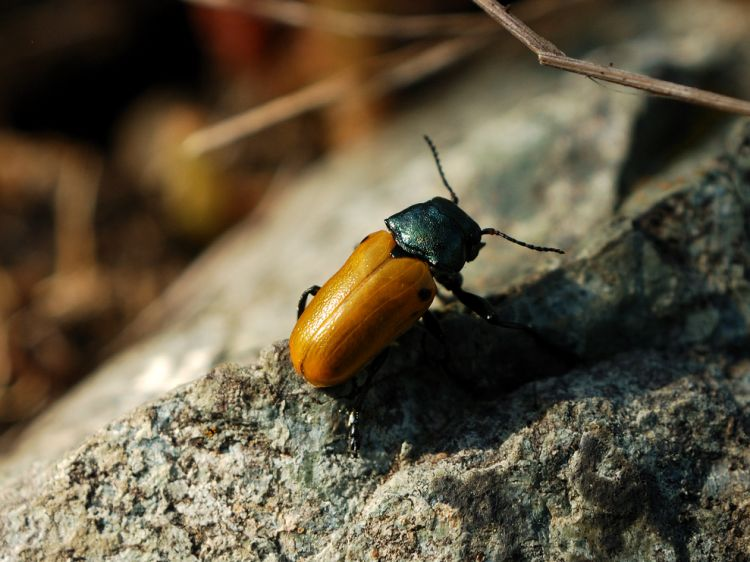Labidostomis_longimana: (279, 136, 566, 415)
